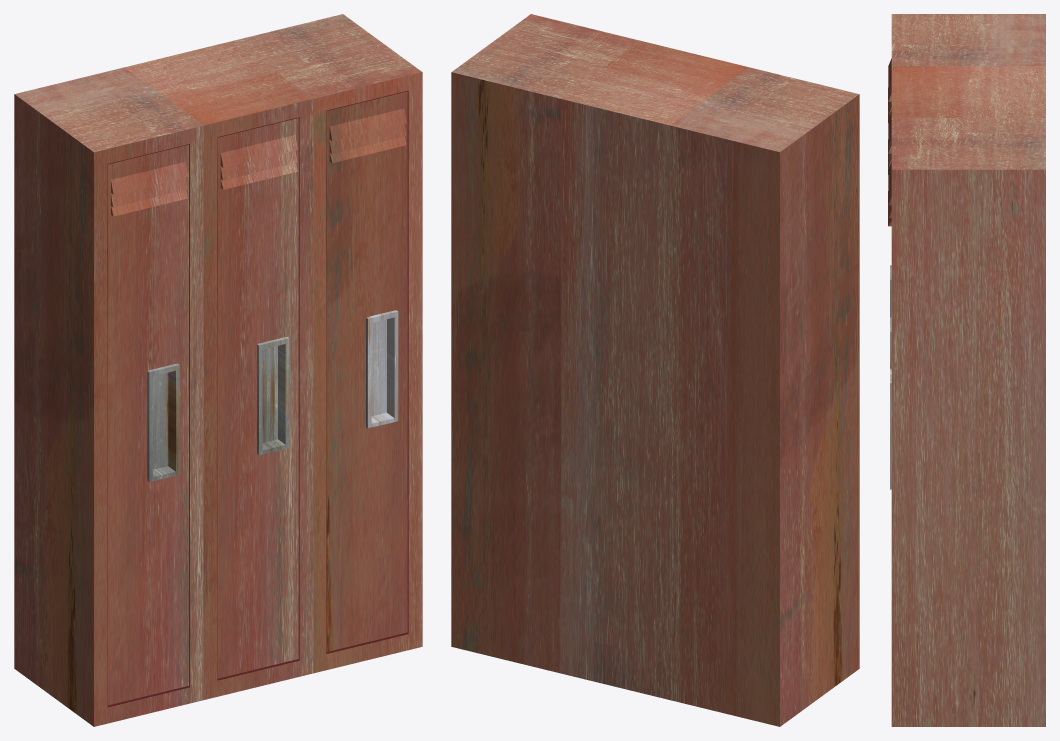
The model's file is Lockers_3.fbx.
The picture shows the model from 3 angles, left to right: view 1: azimuth 30°, elevation 25°; view 2: azimuth 150°, elevation 25°; view 3: azimuth 270°, elevation 25°; orthographic projection. The views are drawn at different scales.
Visible parts, largest first — view 1: Outside, Door2, Door1, Door, Outside1, Outside2, Handle, Handle1, Handle2, Inside1, Inside2, Inside; view 2: Outside, Outside2, Outside1; view 3: Outside2, Outside, Outside1.
Boxes of the visible parts, x1,y1,x2,y2 form: Outside: (14, 67, 203, 726); Door2: (326, 91, 407, 651); Door1: (217, 118, 298, 678); Door: (108, 145, 188, 705); Outside1: (124, 40, 313, 699); Outside2: (234, 14, 422, 673); Handle: (147, 363, 179, 481); Handle1: (257, 337, 289, 454); Handle2: (366, 310, 398, 428); Inside1: (217, 117, 299, 680); Inside2: (326, 90, 408, 653); Inside: (107, 144, 189, 707); Outside: (670, 67, 859, 726); Outside2: (451, 14, 640, 673); Outside1: (560, 41, 749, 699); Outside2: (891, 117, 1045, 726); Outside: (891, 14, 1045, 65); Outside1: (891, 66, 1045, 117).
Bounding box in the file's own units: 0.9095 × 1.52 × 0.3904.
Materials: 3 (2 with a texture image).
